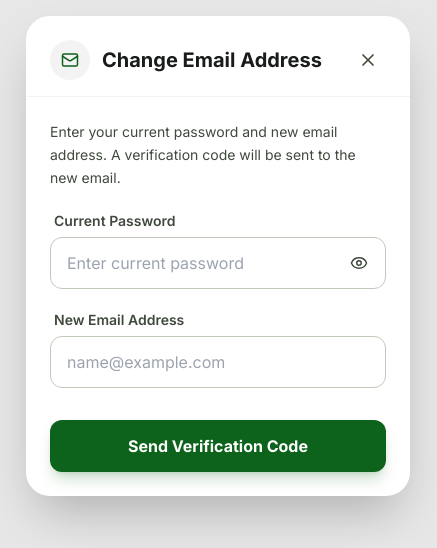
TASK-0216 EmailChangeModal UI Test Suite › allows user to navigate back to Step 1 from Step 2
Type "Secret123!" into the password field with placeholder "Enter current password" at (218, 263), box [50,237,386,289]
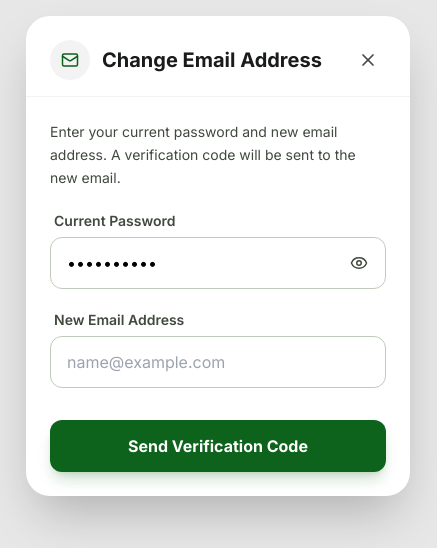
Type "candidate.new@example.com" into the field with placeholder "name@example.com" at (218, 362), box [50,336,386,388]
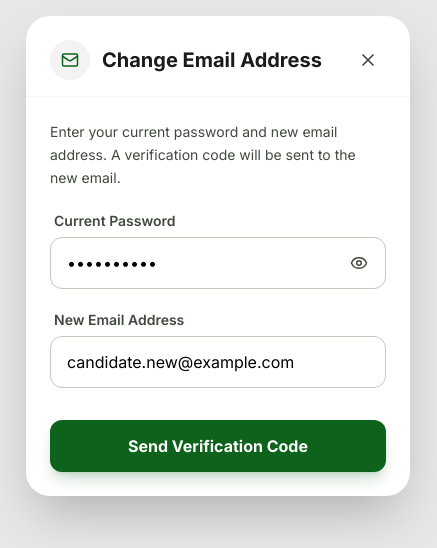
Click the button "Send Verification Code" at (218, 446), box [50,420,386,472]
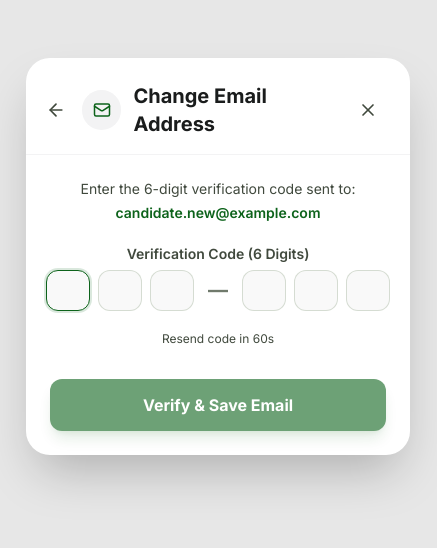
Now the element with test id "otp-code-input" is shown, box [50,270,386,310]
# Click back button
Click the button named "Back" at (56, 110), box [42,96,70,124]
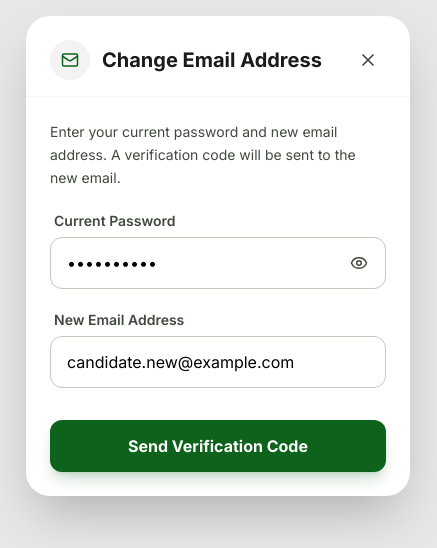
Now the password field with placeholder "Enter current password" is shown, box [50,237,386,289]
Now the field with placeholder "name@example.com" is shown, box [50,336,386,388]
